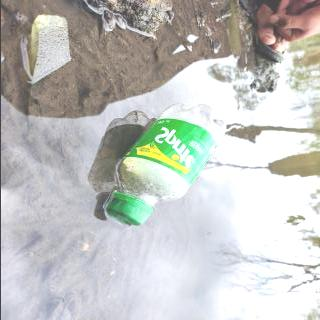bottle: (100, 102, 228, 228)
